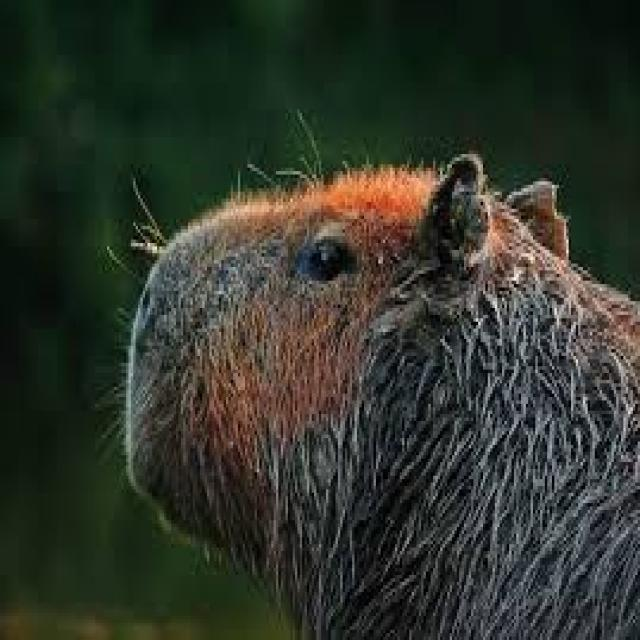capy: (120, 143, 640, 640)
